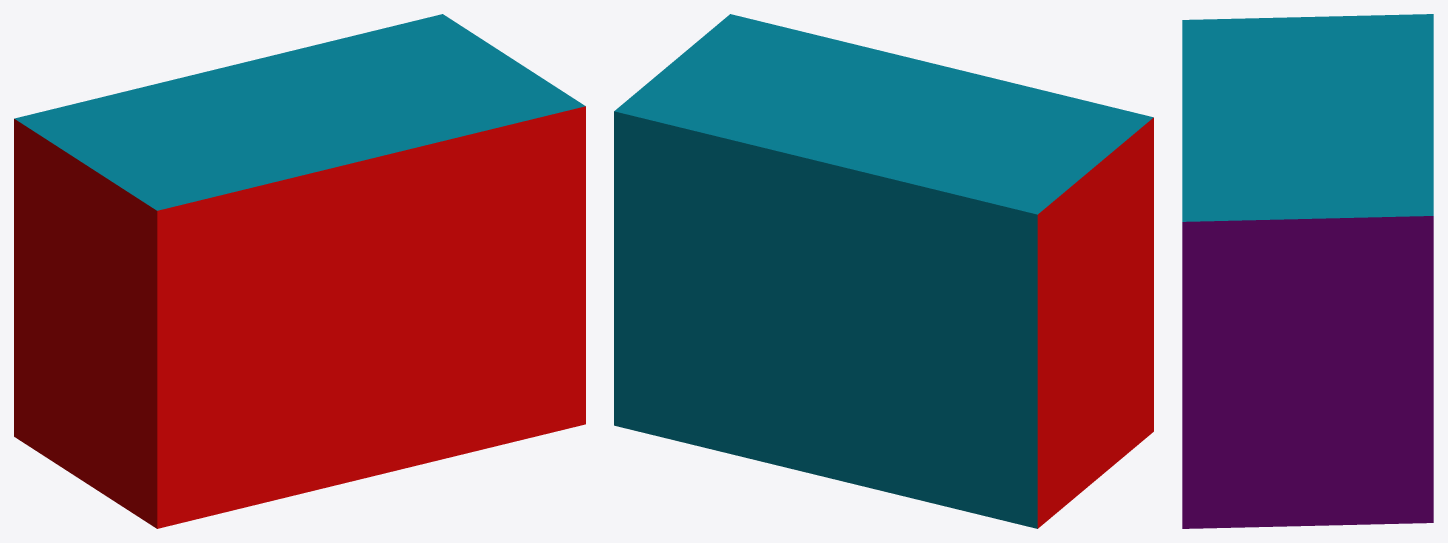
The picture shows the model from 3 angles, left to right: view 1: azimuth 30°, elevation 25°; view 2: azimuth 150°, elevation 25°; view 3: azimuth 270°, elevation 25°; orthographic projection. The views are drawn at different scales.
Parts seen in each view (by area): view 1: Box001; view 2: Box001; view 3: Box001.
Part boxes in pixels (x1=…): Box001: x1=14, y1=14, x2=585, y2=528; Box001: x1=614, y1=14, x2=1153, y2=528; Box001: x1=1182, y1=14, x2=1433, y2=528.
Size of the model in its own units: 83.27 by 57.34 by 42.58.
